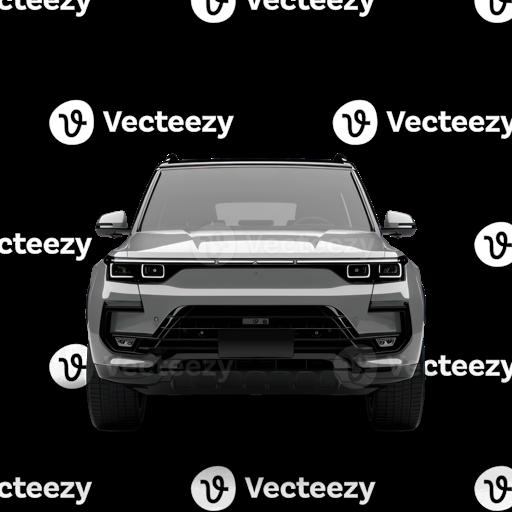suv: (86, 154, 423, 428)
